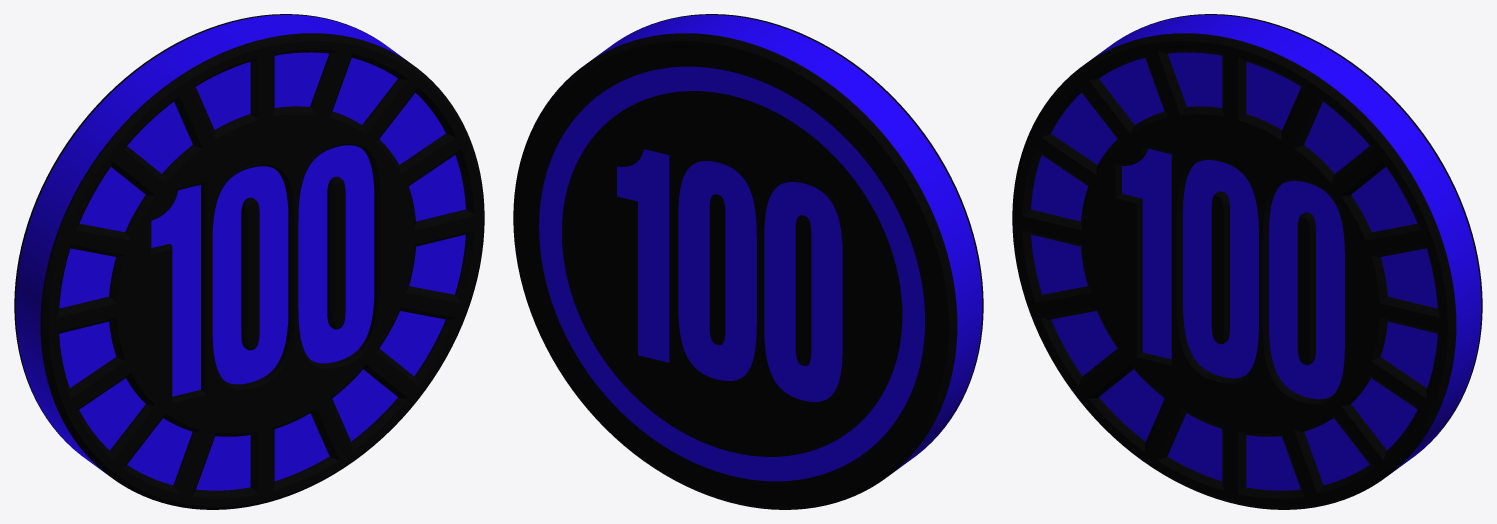
The model's file is chip.obj.
3 views of the same model, side by side, from view 1: azimuth 30°, elevation 25°; view 2: azimuth 150°, elevation 25°; view 3: azimuth 330°, elevation 25° (orthographic).
Parts seen in each view (by area): view 1: main (7), main, main (6), main (5), main (2); view 2: main (3), main (2), ring, main, bot00, bot0, bot1, main (1), main (4), main (7); view 3: main (7), main, main (5), main (6), main (2).
Part boxes in pixels (<box>): main (7): <box>40,33,484,509</box>; main: <box>15,15,465,490</box>; main (6): <box>241,197,259,350</box>; main (5): <box>327,176,345,329</box>; main (2): <box>14,14,379,452</box>; main (3): <box>562,91,902,456</box>; main (2): <box>513,33,957,509</box>; ring: <box>539,66,924,481</box>; main: <box>591,15,982,472</box>; bot00: <box>764,182,842,401</box>; bot0: <box>678,161,756,380</box>; bot1: <box>617,149,669,362</box>; main (1): <box>795,215,811,366</box>; main (4): <box>709,194,725,345</box>; main (7): <box>618,14,983,452</box>; main (7): <box>1012,33,1456,509</box>; main: <box>1031,15,1481,490</box>; main (5): <box>1297,212,1315,365</box>; main (6): <box>1211,191,1229,344</box>; main (2): <box>1117,14,1482,452</box>.
Size of the model in its own units: 39 by 38.99 by 5.
